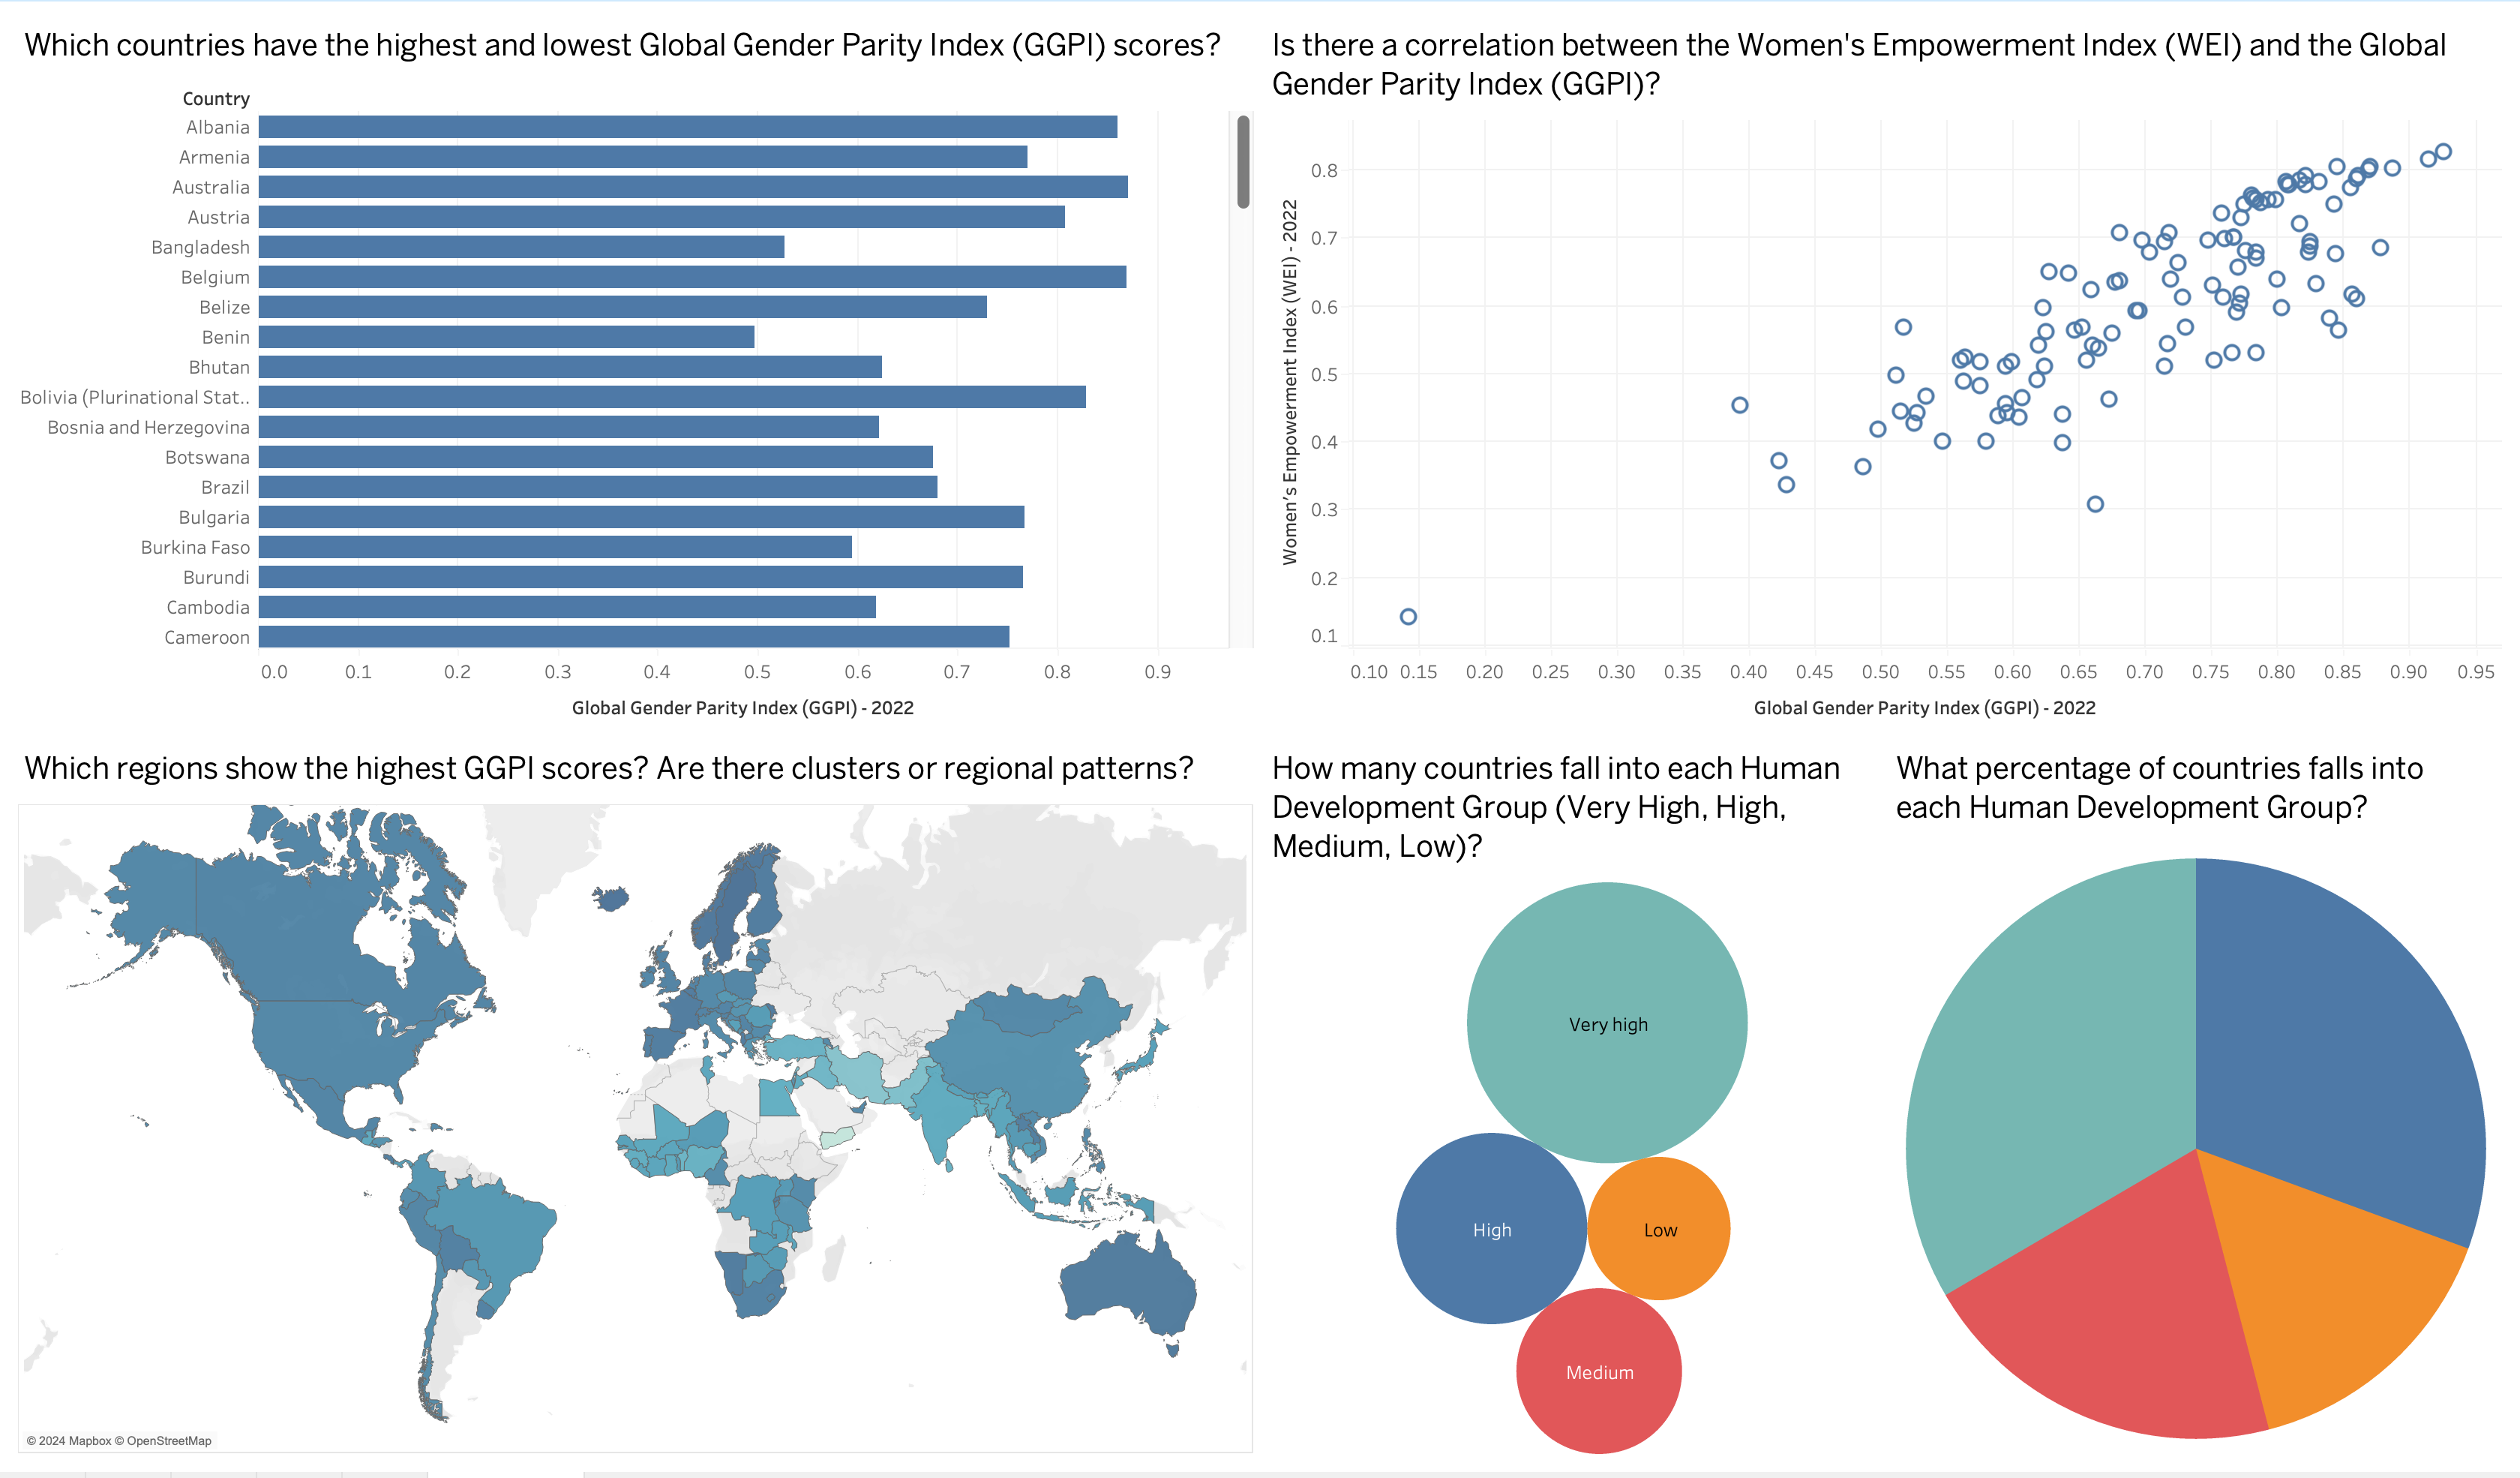

This screenshot's page, from the dashboard's own definition file:
{"tool":"tableau","page":{"name":"Dashboard 1","canvas":[1000,1000],"units":"permille","ordinal":0},"visuals":[{"type":"worksheet","title":"Sheet 2","mark":"Automatic","rows":["Country"],"cols":["Global Gender Parity Index (GGPI) - 2022"],"box":[4.8,9,495.1,491]},{"type":"worksheet","title":"Sheet 4","mark":"Automatic","rows":["Women's Empowerment Index (WEI) - 2022"],"cols":["Global Gender Parity Index (GGPI) - 2022"],"box":[500,9,495.2,491]},{"type":"worksheet","title":"Sheet 3","mark":"Automatic","box":[4.8,500,495.1,491]},{"type":"worksheet","title":"Sheet 5","mark":"Circle","box":[500,500,247.6,491]},{"type":"worksheet","title":"Sheet 1","mark":"Pie","box":[747.6,500,247.6,491]}]}

Visuals, with their boxes on the dashboard's canvas, which has no fixed pixel size, in thousandths of its width and height (x1, y1, x2, y2). These are canvas units, not pixel positions in the 2520x1478 screenshot, which may show the page scaled, cropped or inside an application window:
"Sheet 2" worksheet: [5,9,500,500]
"Sheet 4" worksheet: [500,9,995,500]
"Sheet 3" worksheet: [5,500,500,991]
"Sheet 5" worksheet (Circle marks): [500,500,748,991]
"Sheet 1" worksheet (Pie marks): [748,500,995,991]
